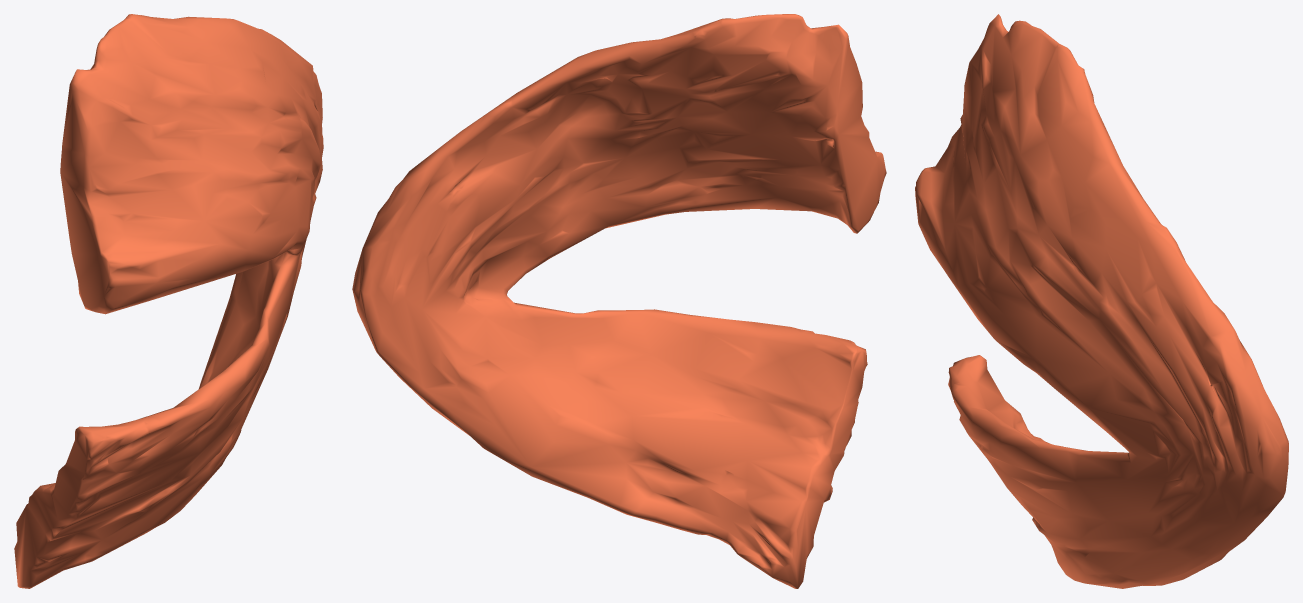
The model's file is Orbicularis_oris.l_Generated_Mesh_From_X3D.312.glb.
3 views of the same model, side by side, from view 1: azimuth 30°, elevation 25°; view 2: azimuth 150°, elevation 25°; view 3: azimuth 270°, elevation 25° (orthographic). The views are drawn at different scales.
Parts seen in each view (by area): view 1: Orbicularis_oris.l_Generated_Mesh_From_X3D.312; view 2: Orbicularis_oris.l_Generated_Mesh_From_X3D.312; view 3: Orbicularis_oris.l_Generated_Mesh_From_X3D.312.
Part boxes in pixels (bbox=[...]): Orbicularis_oris.l_Generated_Mesh_From_X3D.312: bbox=[14, 14, 323, 588]; Orbicularis_oris.l_Generated_Mesh_From_X3D.312: bbox=[352, 14, 886, 588]; Orbicularis_oris.l_Generated_Mesh_From_X3D.312: bbox=[915, 14, 1288, 588].
Size of the model in its own units: 0.0321 by 0.0454 by 0.0276.
